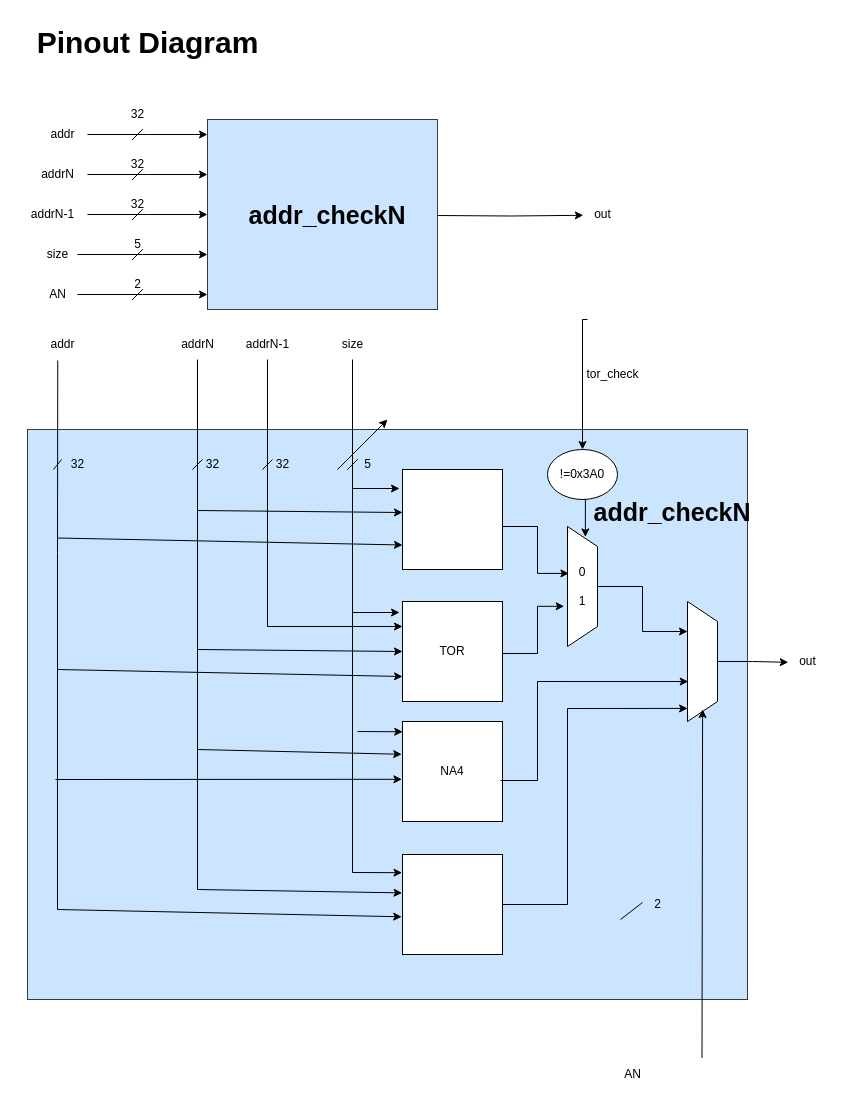
Some shapes in this 844 by 1106 pixel diagram are drawn without their labels. The centre of each missing label's shape, as x and y in pixels:
"NAPOT" goes at point 452,904.
"TOR0" goes at point 452,519.
